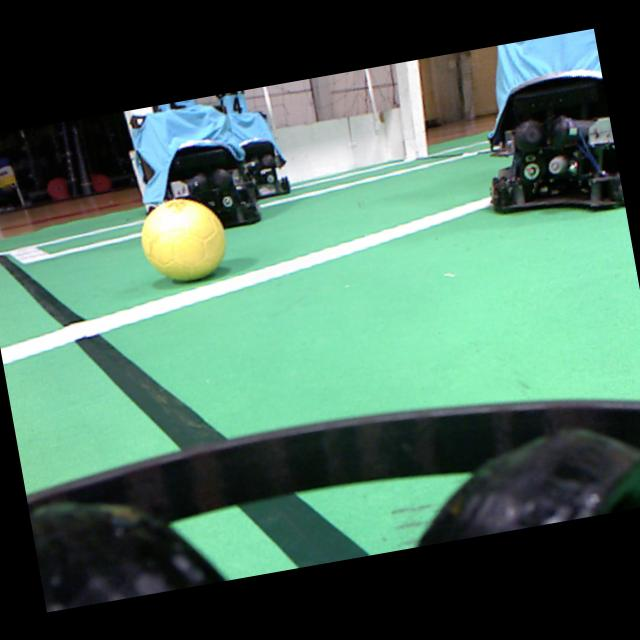ball: (141, 198, 224, 280)
goal: (394, 59, 427, 159)
